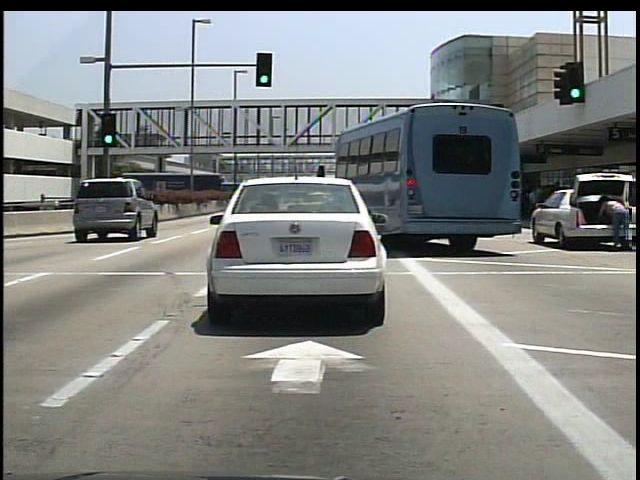person: (596, 191, 628, 254)
